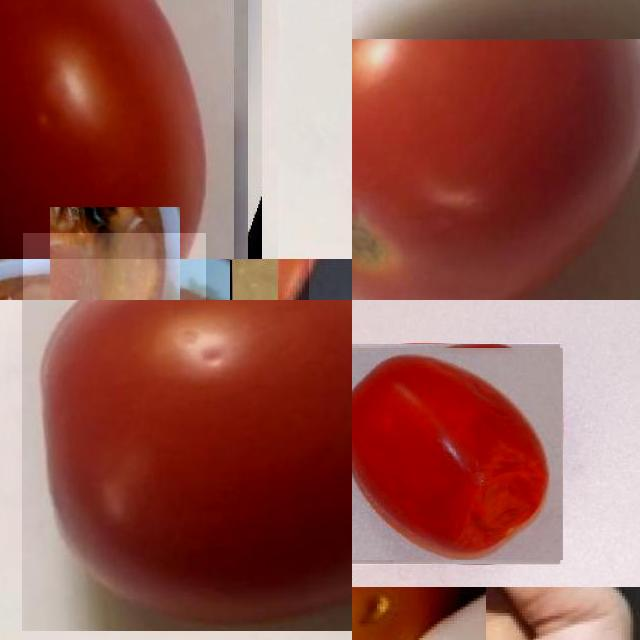Fresh Tomato: (22, 300, 352, 631), (352, 39, 640, 300), (0, 0, 248, 259)
Rotten Tomato: (352, 345, 561, 562), (23, 233, 206, 300), (352, 587, 486, 640)
